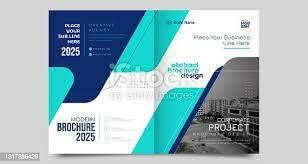paper: (49, 10, 260, 154)
